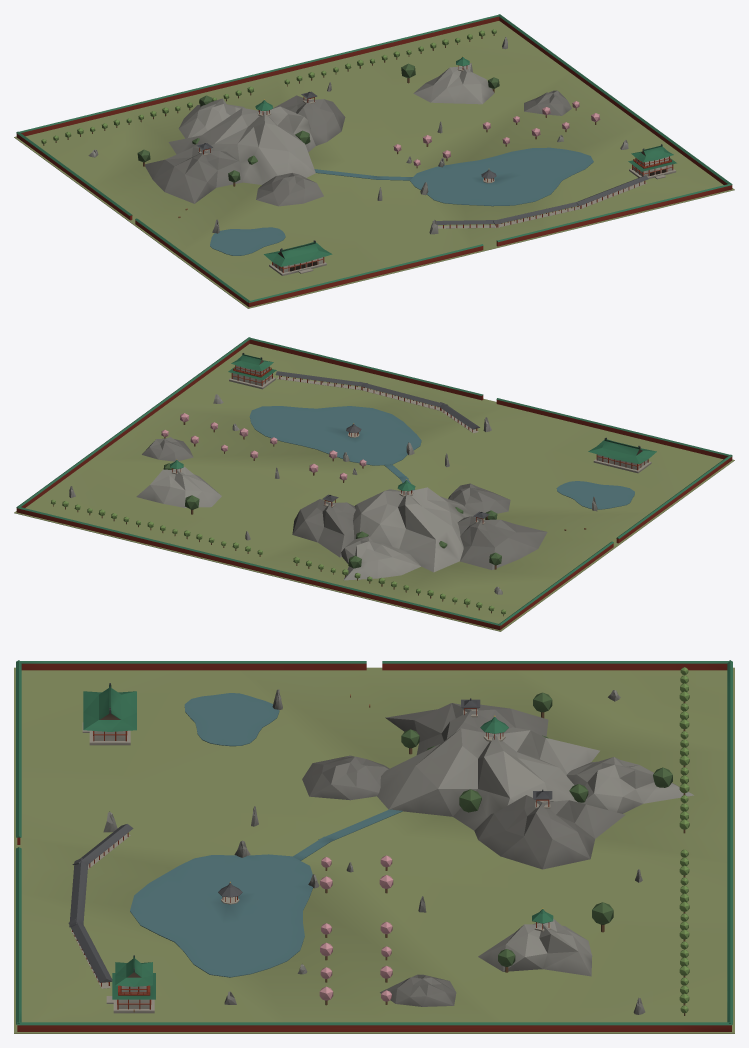
File: genyue.glb
3 views of the same model, one above another, from view 1: azimuth 30°, elevation 25°; view 2: azimuth 150°, elevation 25°; view 3: azimuth 270°, elevation 25° (orthographic). The views are drawn at different scales.
Visible parts, largest first — view 1: p0_hills, p2_life, p1_halls; view 2: p0_hills, p2_life, p1_halls; view 3: p0_hills, p2_life, p1_halls.
Part boxes in pixels (bbox=[...]): p0_hills: bbox=[14, 14, 734, 308]; p2_life: bbox=[41, 29, 676, 266]; p1_halls: bbox=[88, 37, 676, 275]; p0_hills: bbox=[14, 337, 734, 631]; p2_life: bbox=[51, 353, 656, 616]; p1_halls: bbox=[69, 365, 651, 594]; p0_hills: bbox=[14, 660, 734, 1033]; p2_life: bbox=[83, 667, 689, 1015]; p1_halls: bbox=[68, 689, 645, 1014].
Bounding box in the file's own units: 360 × 37.67 × 300.
